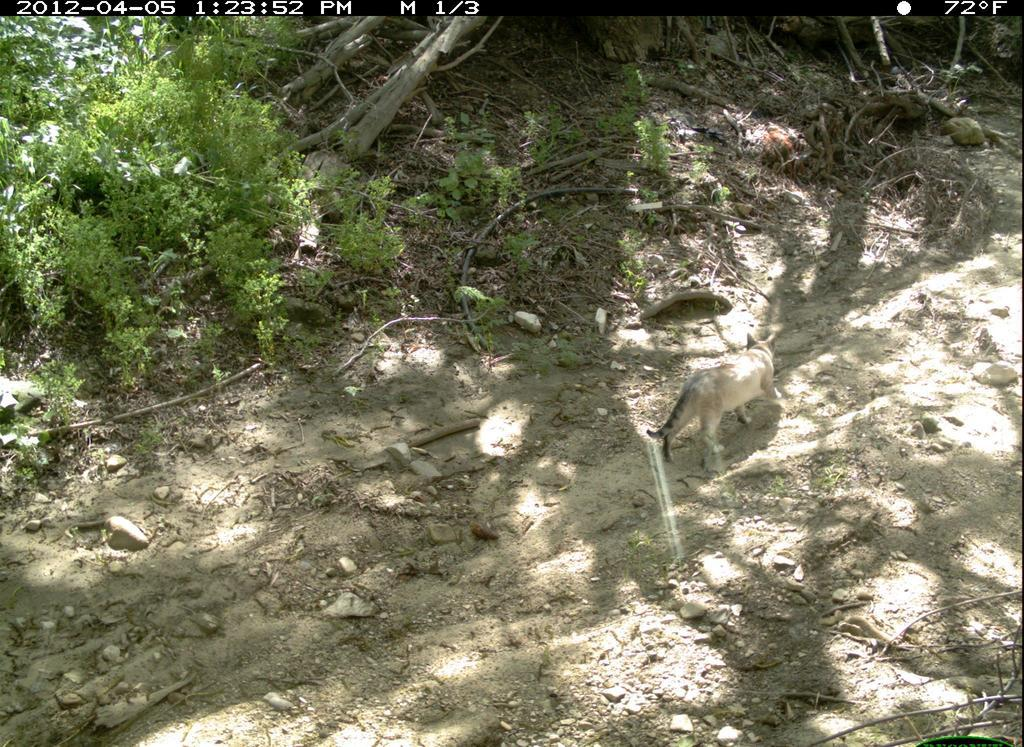cat: (642, 326, 789, 472)
